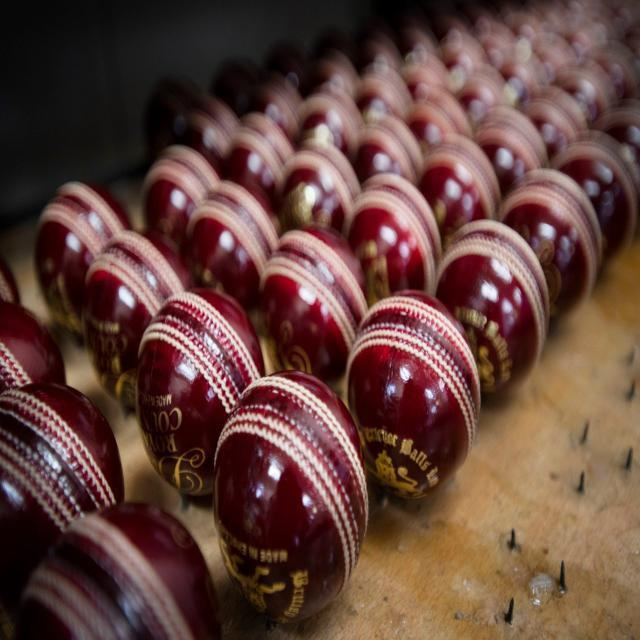cricket ball: (214, 371, 368, 624), (345, 292, 482, 502), (136, 288, 265, 495)
